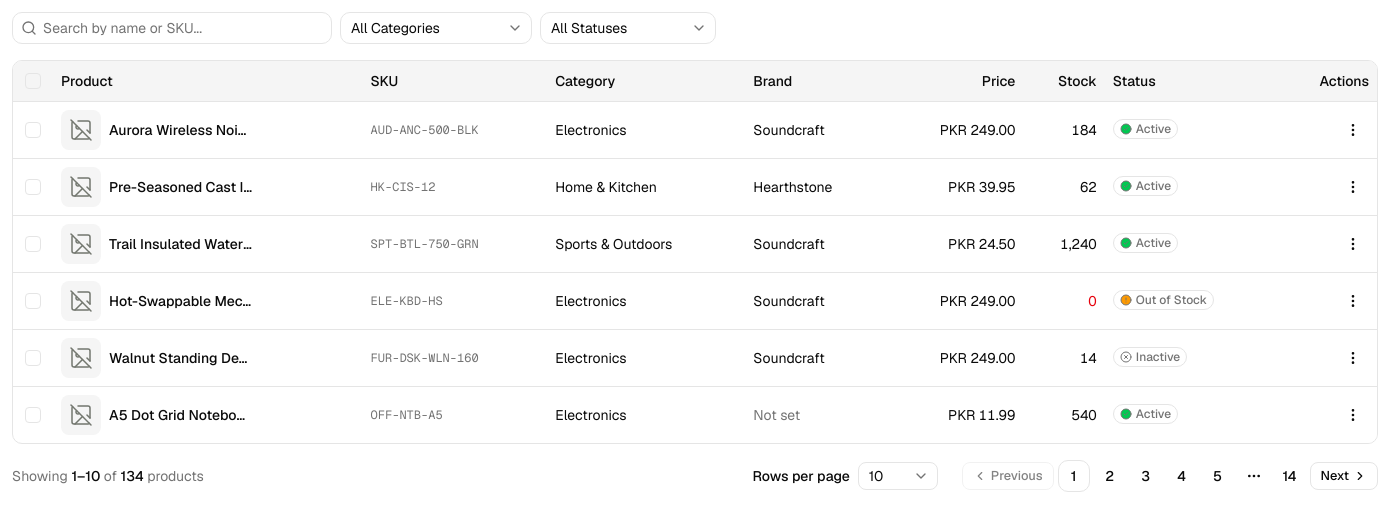
Test: ProductsList search and filters › filters by status, including out of stock
Expected: the text "Aurora Wireless Noise-Cancelling Headphones" is shown, [109,120,253,140]
Step 1. Click the dropdown named "Filter by status" → (628,28), box [540,12,716,44]
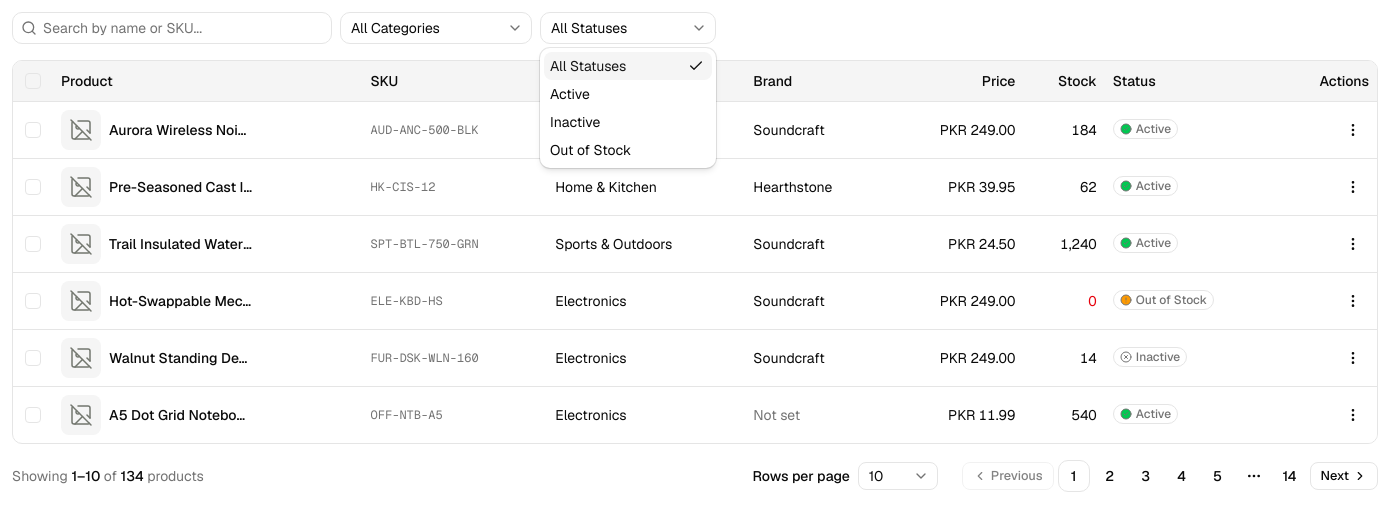
Step 2. Click the option "Out of Stock" → (591,150), box [550,141,631,159]
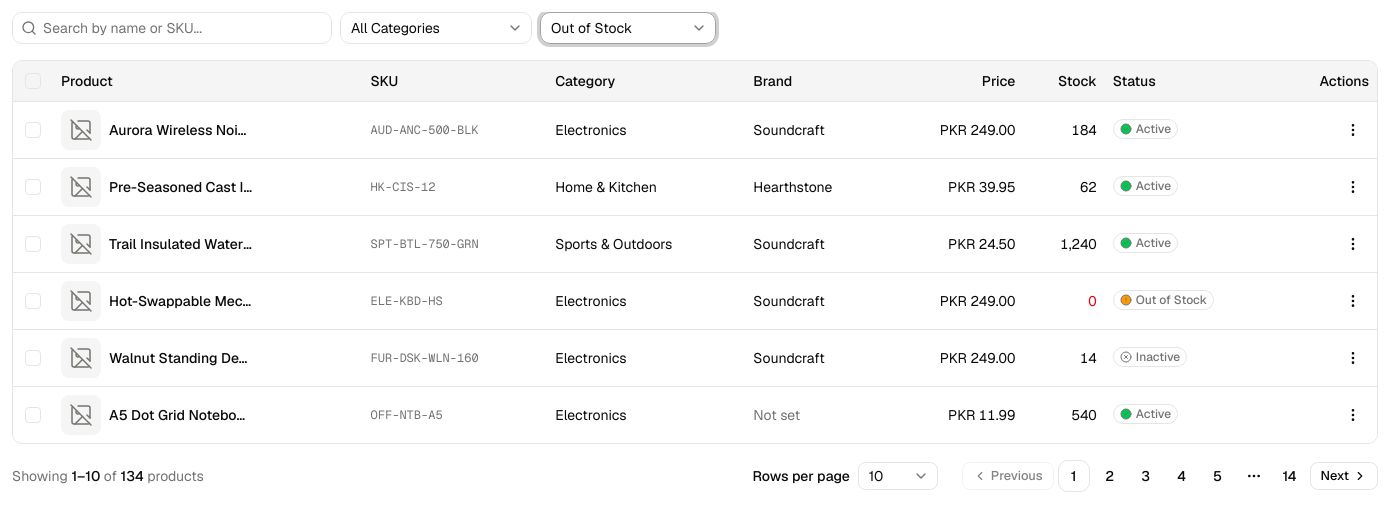
Expected: the dropdown named "Filter by status" shows "Out of Stock", [540,12,716,44]
